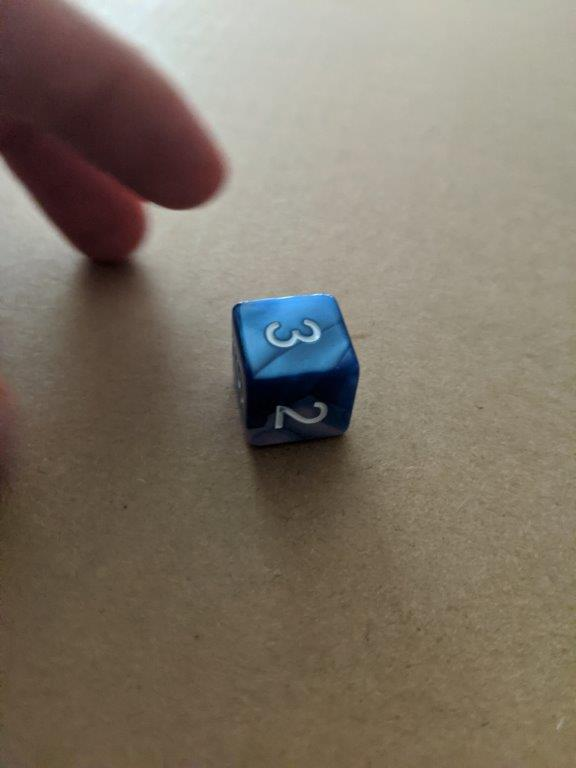d6-3: (232, 290, 359, 454)
